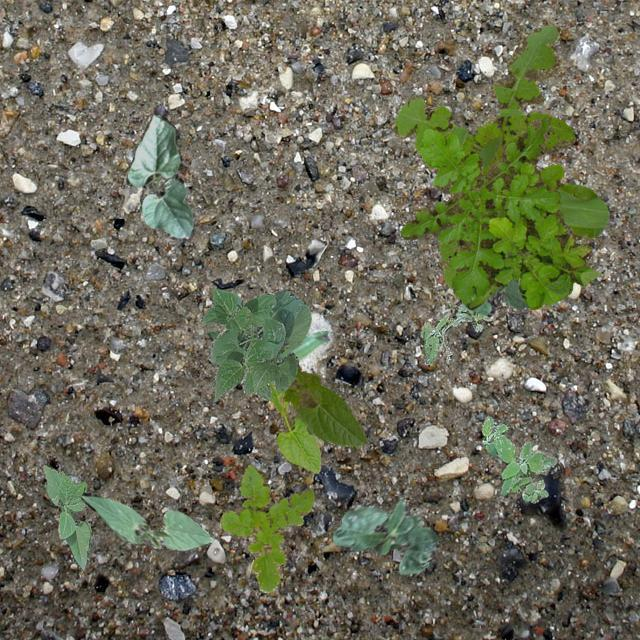crop: (198, 288, 310, 400), (124, 114, 194, 240), (332, 496, 438, 576), (80, 492, 212, 550), (282, 364, 366, 446), (42, 464, 92, 570), (268, 382, 320, 472), (206, 330, 328, 360), (454, 276, 530, 316)
weed: (390, 22, 608, 288), (400, 116, 600, 308), (218, 464, 314, 592), (480, 416, 554, 502), (419, 302, 492, 363)
